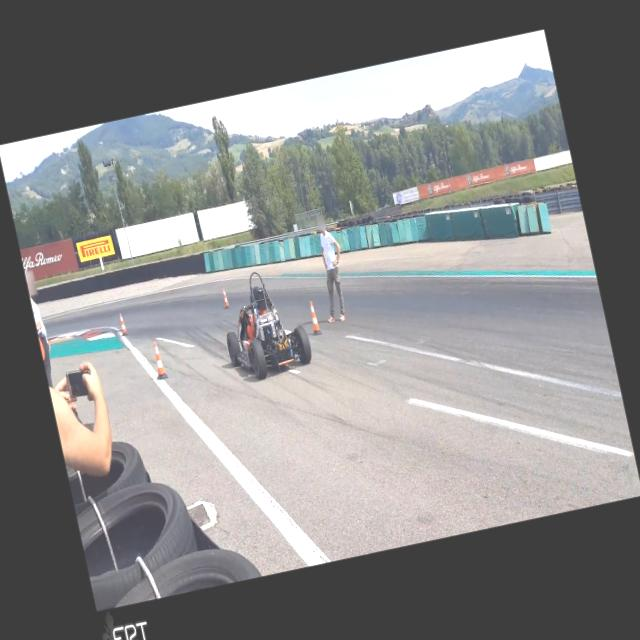large_orange_cone: (150, 340, 168, 380), (306, 299, 322, 335), (218, 287, 232, 309), (117, 312, 128, 336)
